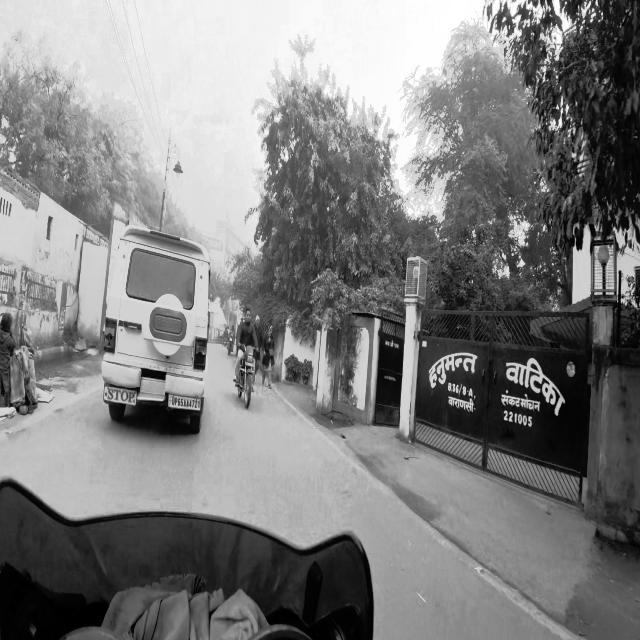Bike: (230, 302, 259, 415)
Car: (98, 198, 216, 440)
